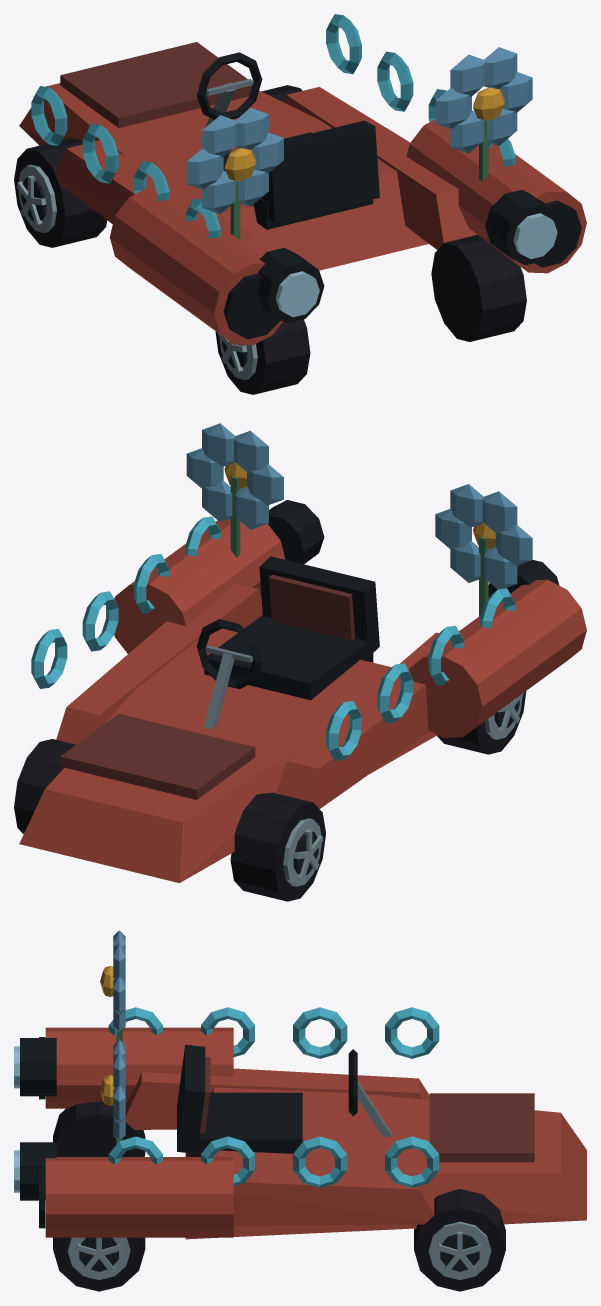
Rendered from kart.glb.
3 renders of one model, top to bottom at view 1: azimuth 30°, elevation 25°; view 2: azimuth 150°, elevation 25°; view 3: azimuth 270°, elevation 25°, orthographic. The views are drawn at different scales.
Parts seen in each view (by area): view 1: identity-speeder-speeder-long-cowl-and-stern-turbines, identity-speeder-motif-flowers, identity-speeder-driver-cockpit, identity-speeder-motif-thrusters, identity-speeder-motif-water, wheel-rear-right, wheel-front-left, wheel-rear-left; view 2: identity-speeder-speeder-long-cowl-and-stern-turbines, identity-speeder-driver-cockpit, identity-speeder-motif-flowers, identity-speeder-motif-water, wheel-front-left, identity-speeder-motif-thrusters, wheel-front-right, wheel-rear-left; view 3: identity-speeder-speeder-long-cowl-and-stern-turbines, identity-speeder-motif-water, identity-speeder-driver-cockpit, wheel-front-right, identity-speeder-motif-thrusters, wheel-rear-right, wheel-rear-left, identity-speeder-motif-flowers.
Boxes of the visible parts, box(x1,y1,x2,y2) form: identity-speeder-speeder-long-cowl-and-stern-turbines: box(19, 42, 586, 345); identity-speeder-motif-flowers: box(186, 47, 532, 239); identity-speeder-driver-cockpit: box(196, 52, 379, 229); identity-speeder-motif-thrusters: box(257, 189, 562, 323); identity-speeder-motif-water: box(31, 14, 515, 238); wheel-rear-right: box(431, 235, 526, 341); wheel-front-left: box(14, 138, 107, 247); wheel-rear-left: box(215, 319, 310, 394); identity-speeder-speeder-long-cowl-and-stern-turbines: box(19, 519, 586, 882); identity-speeder-driver-cockpit: box(196, 556, 379, 729); identity-speeder-motif-flowers: box(186, 423, 532, 616); identity-speeder-motif-water: box(31, 516, 515, 760); wheel-front-left: box(230, 792, 325, 901); identity-speeder-motif-thrusters: box(268, 500, 559, 597); wheel-front-right: box(14, 739, 75, 834); wheel-rear-left: box(437, 691, 526, 754); identity-speeder-speeder-long-cowl-and-stern-turbines: box(39, 1027, 586, 1239); identity-speeder-motif-water: box(108, 1007, 439, 1187); identity-speeder-driver-cockpit: box(177, 1044, 392, 1156); wheel-front-right: box(414, 1189, 505, 1291); identity-speeder-motif-thrusters: box(14, 1038, 56, 1200); wheel-rear-right: box(53, 1237, 145, 1291); wheel-rear-left: box(53, 1101, 145, 1156); identity-speeder-motif-flowers: box(100, 930, 125, 1156).
Size of the model in its own units: 2.1 by 1.46 by 3.11.
